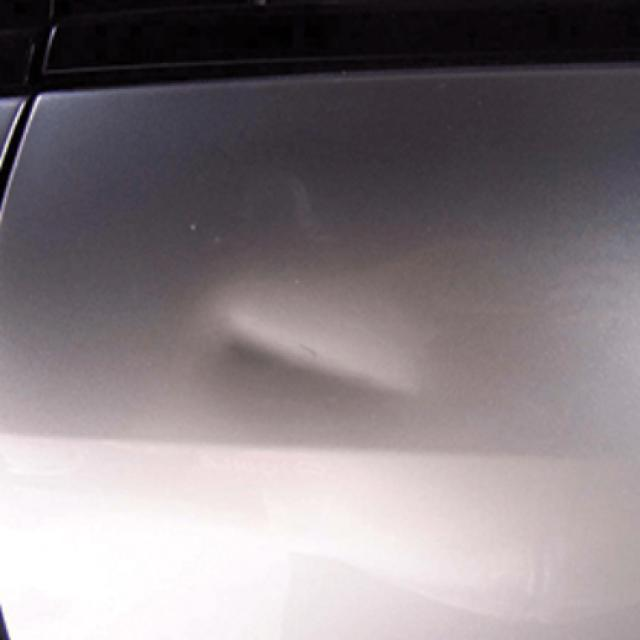dents: (165, 266, 448, 435), (242, 160, 348, 250)
